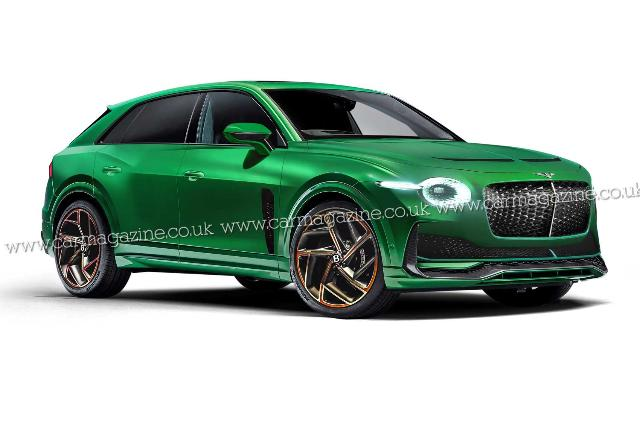bentley: (40, 81, 608, 317)
